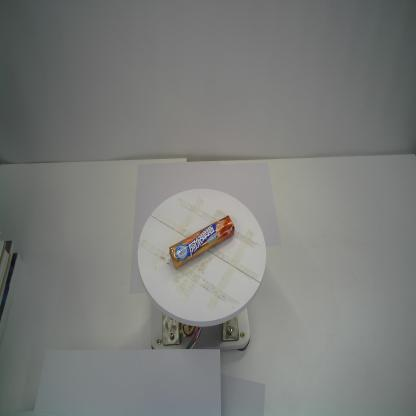Candy: (169, 215, 235, 270)
